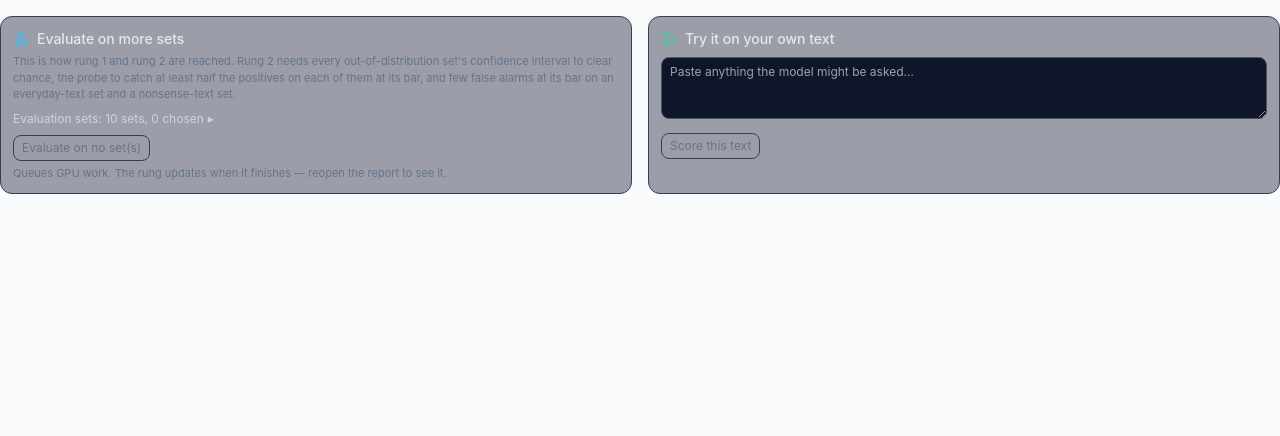
Test: set lists on the probe page use the shared SetList › the probe report's evaluate checklist (ProbeActions)
The width and height of the screenshot is (1280, 436).
Click the button "Evaluation sets: 10 sets, 0 chosen ▸".
click(113, 118)  # box [13,110,214,126]
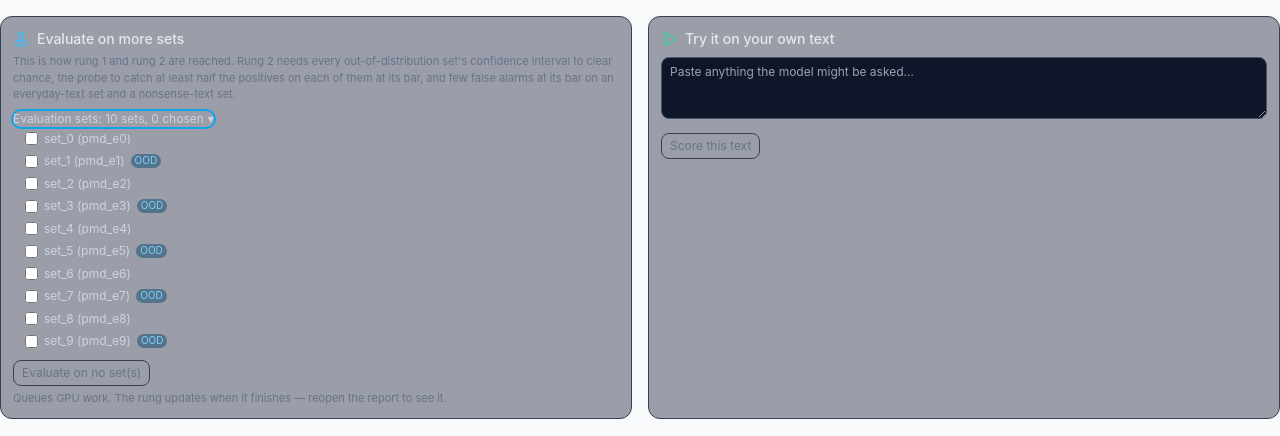
Now the number of list items is 10
Now the list item "set_0 (pmd_e0)" is shown, box [25,130,131,146]
Now the list item "set_1 (pmd_e1) OOD" is shown, box [25,153,161,168]
Click the checkbox with test id "evaluate-set-pmd_e3".
click(32, 206)  # box [25,200,38,212]
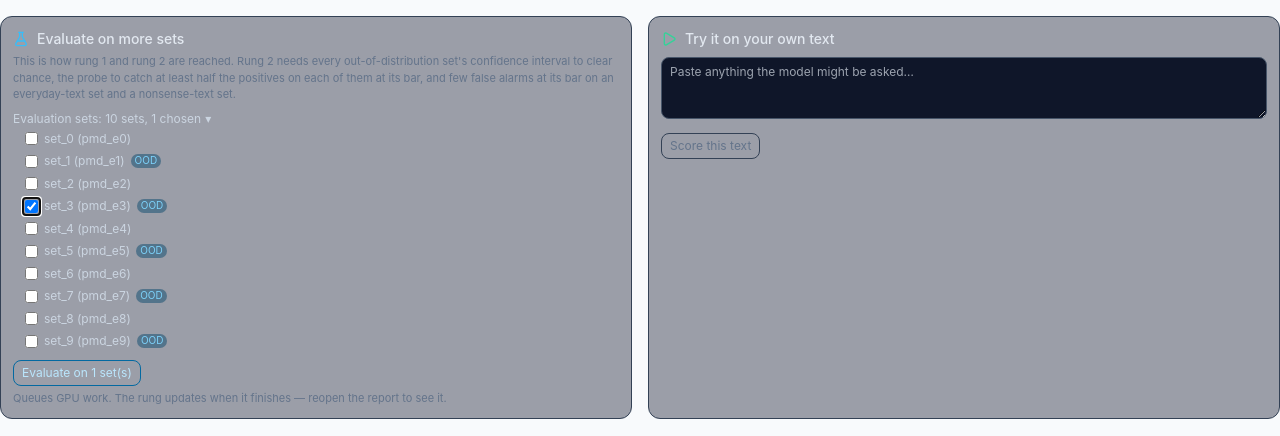
Now the button with test id "evaluate-sets-toggle" shows "Evaluation sets: 10 sets, 1 chosen", box [13,110,211,126]
